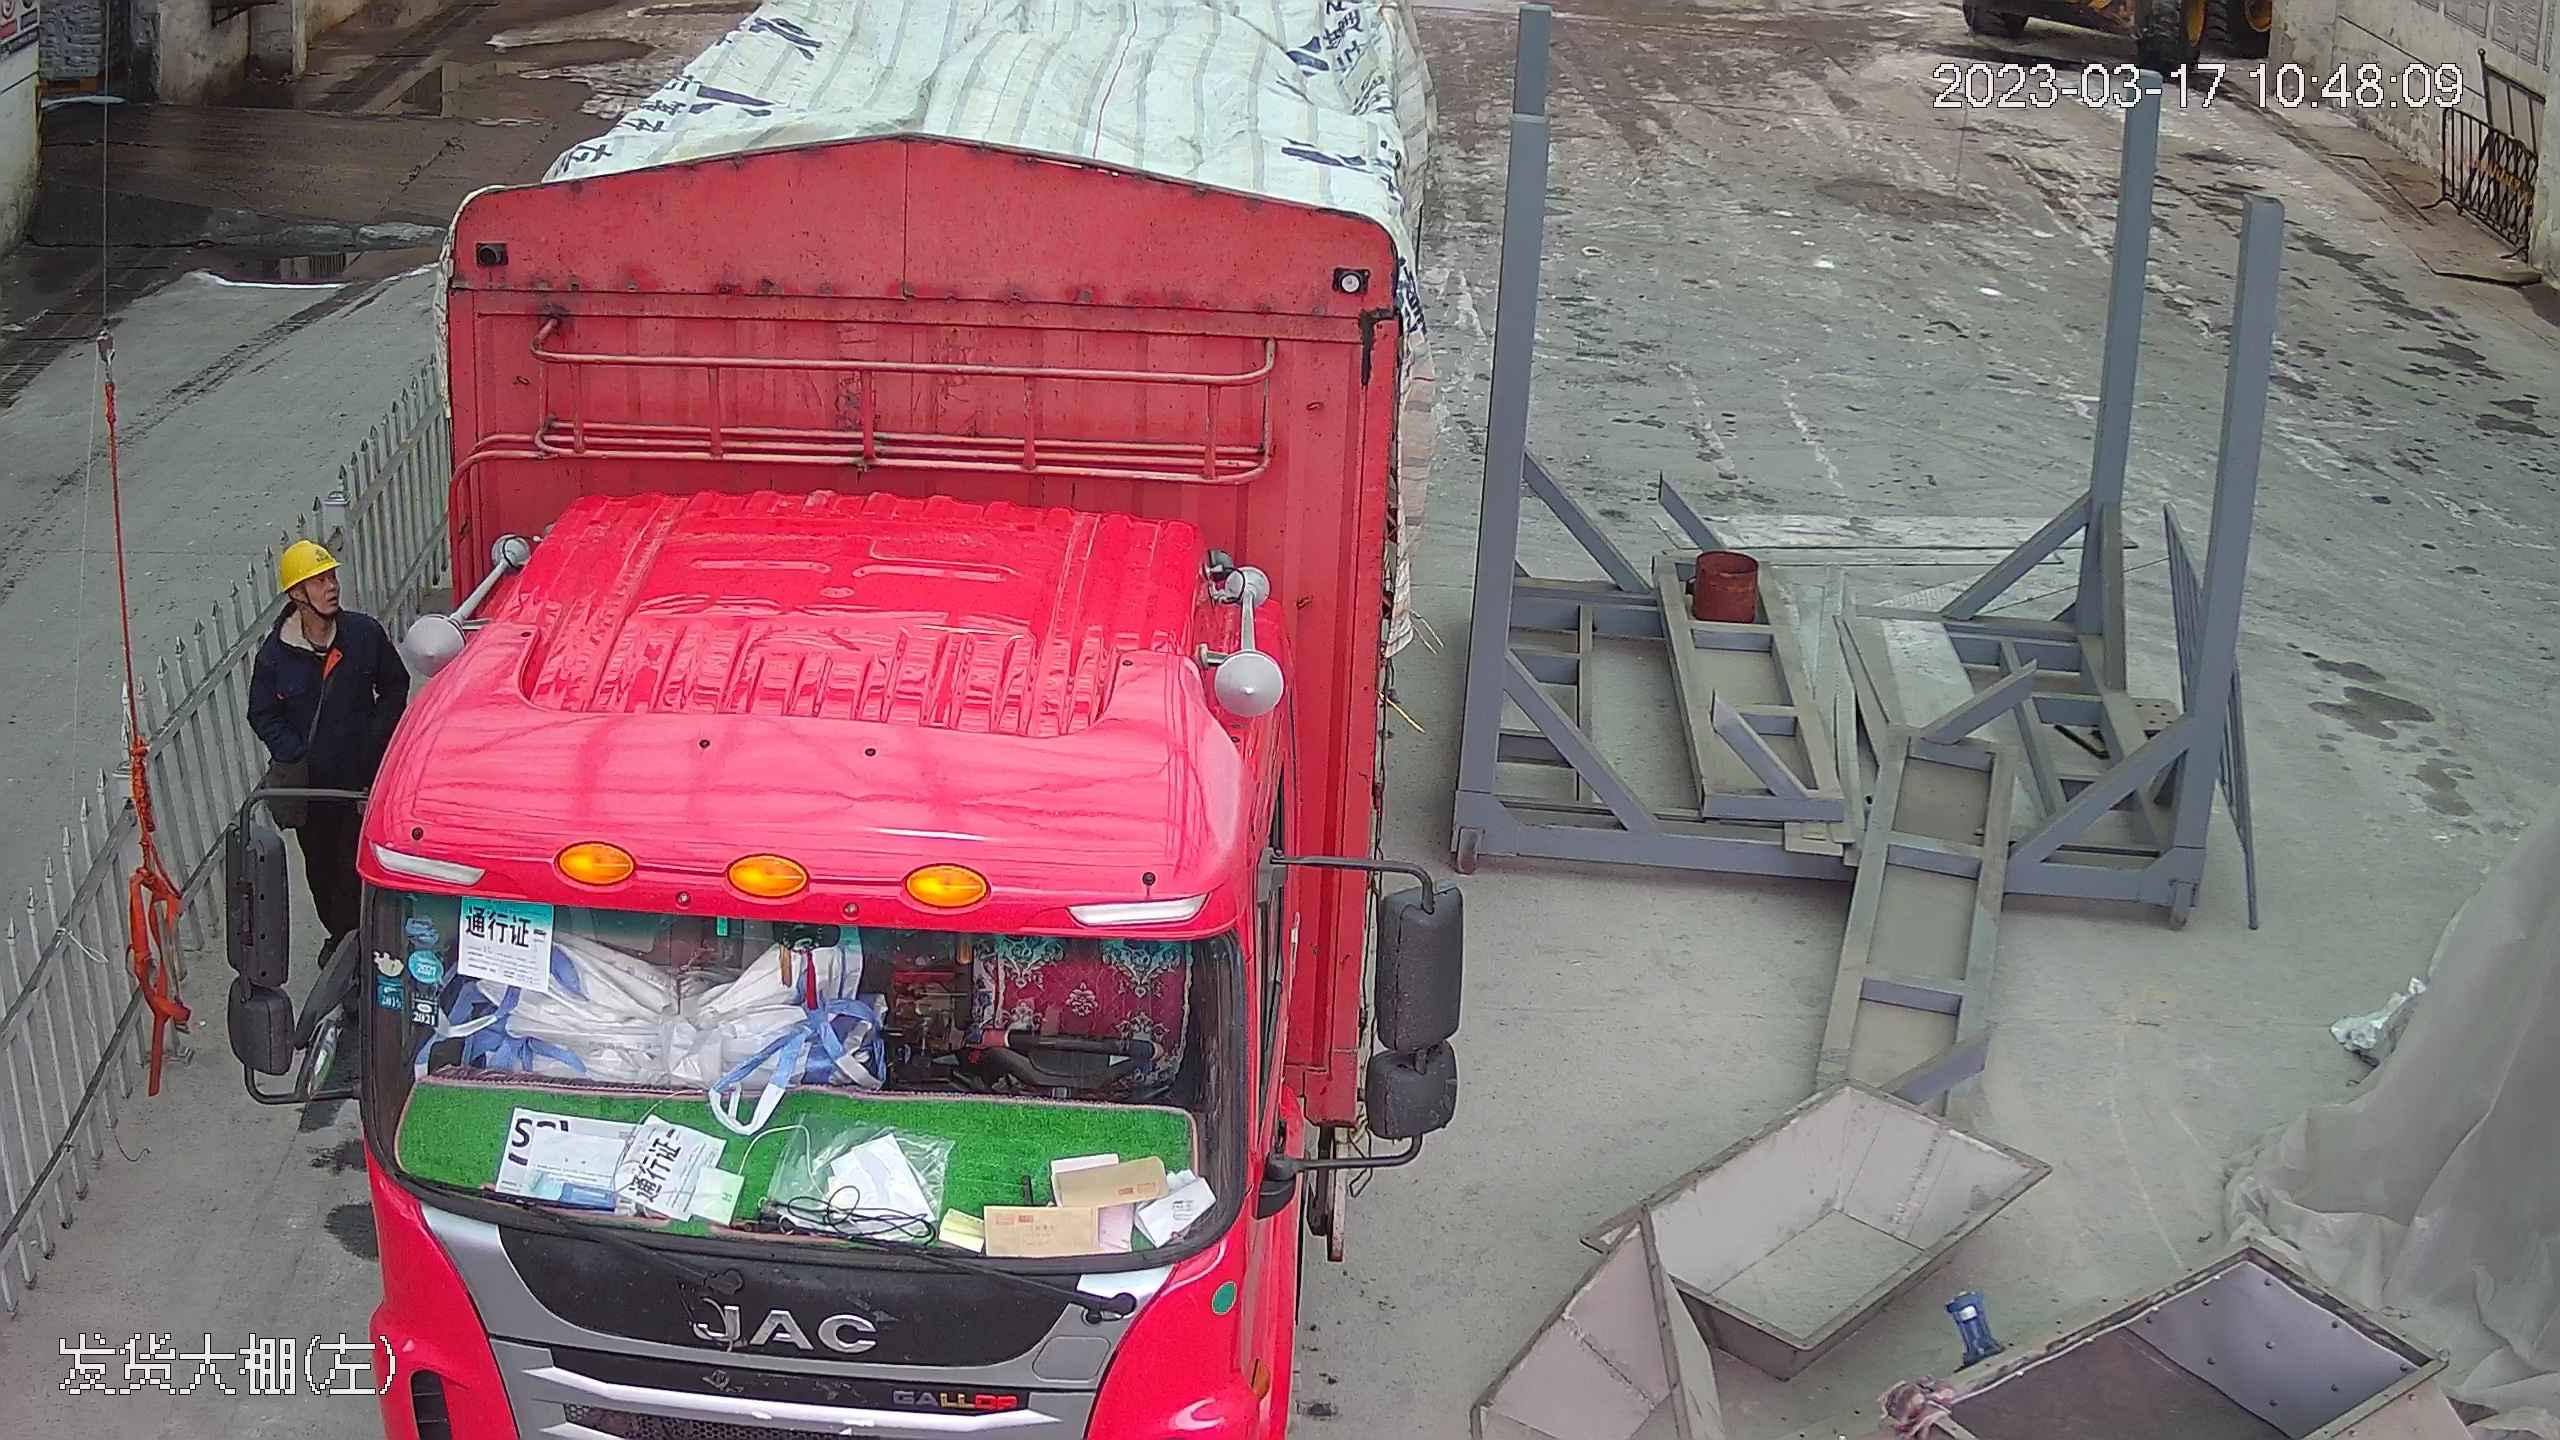head: (252, 533, 399, 682)
helmet: (272, 534, 342, 591)
people: (240, 534, 412, 974)
truck: (254, 12, 1497, 1439)
